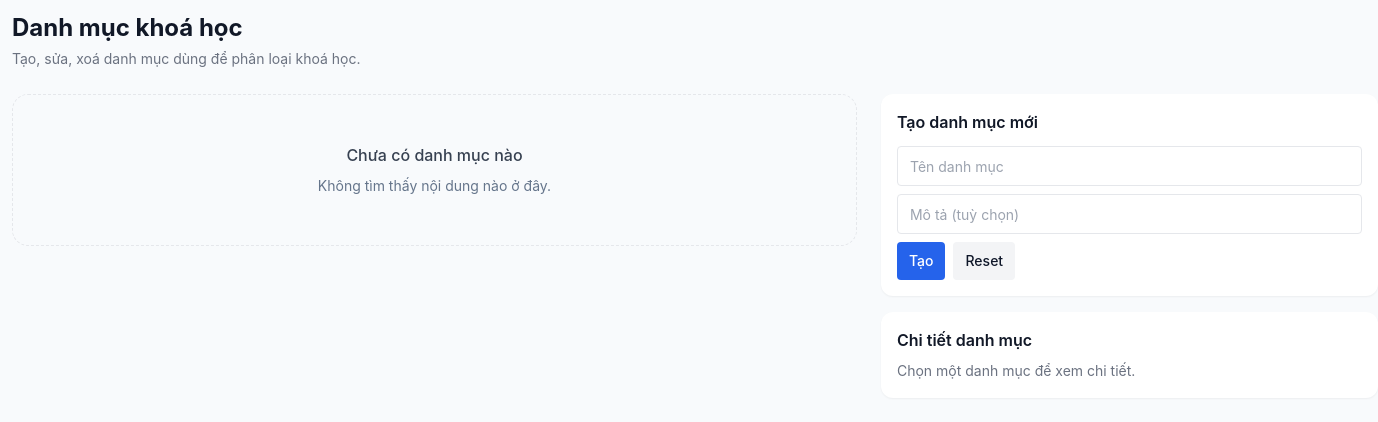
Test: AdminCategoriesPage — kiểm tên danh mục › tên rỗng: hiện thông báo cụ thể, KHÔNG gọi API tạo
The image size is (1378, 422).
Click the button "Tạo".
click(921, 261)  # box [897,242,946,280]
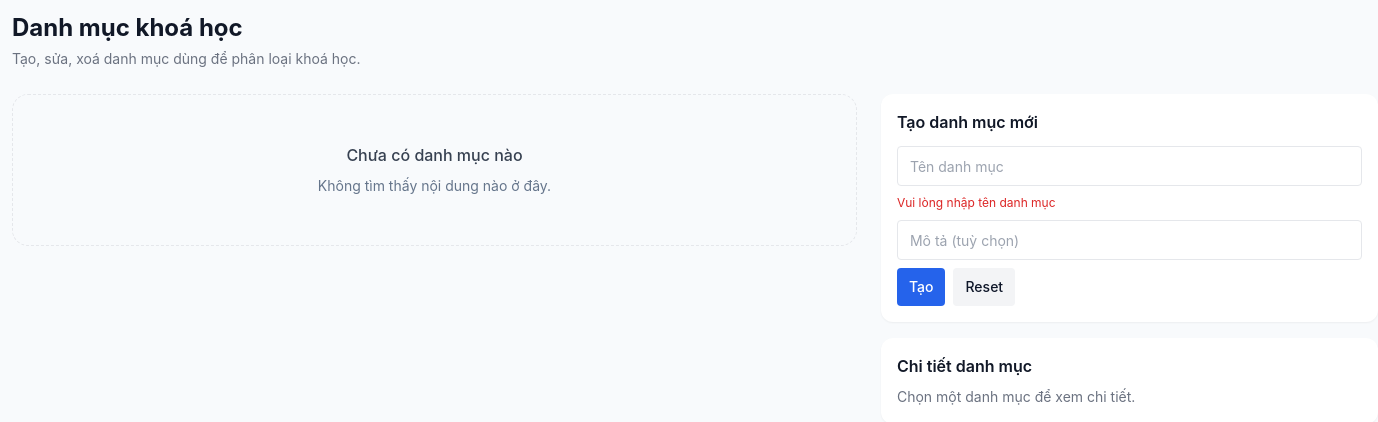
Check: the message reads "Vui lòng nhập tên danh mục", box [897,195,1056,210]
